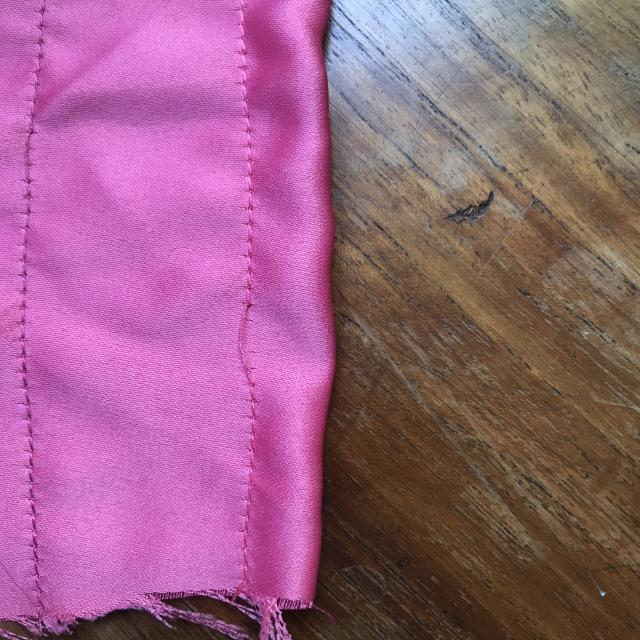skip: (214, 288, 270, 398)
